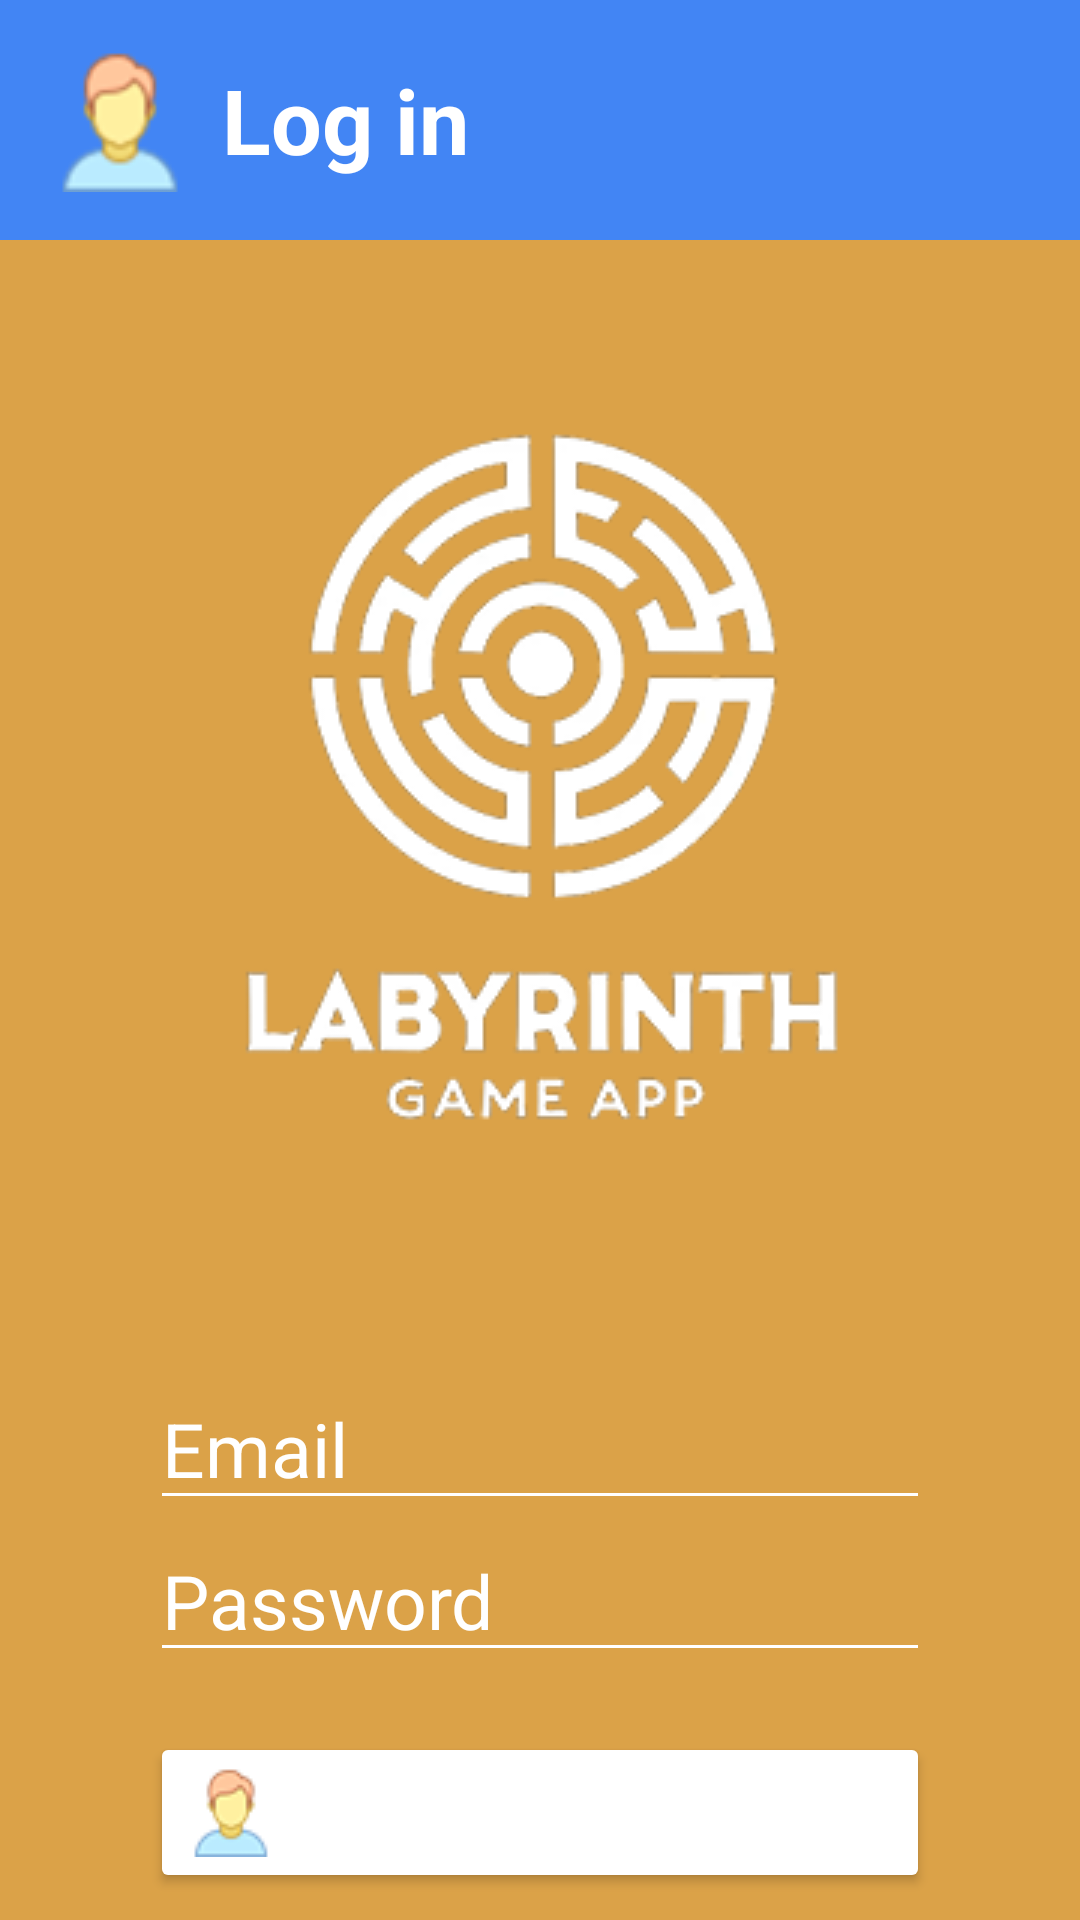

Point at icon controls on the screen. Image size 1080*1920, points as (x=x, y=y).
account: (x=120, y=122)
